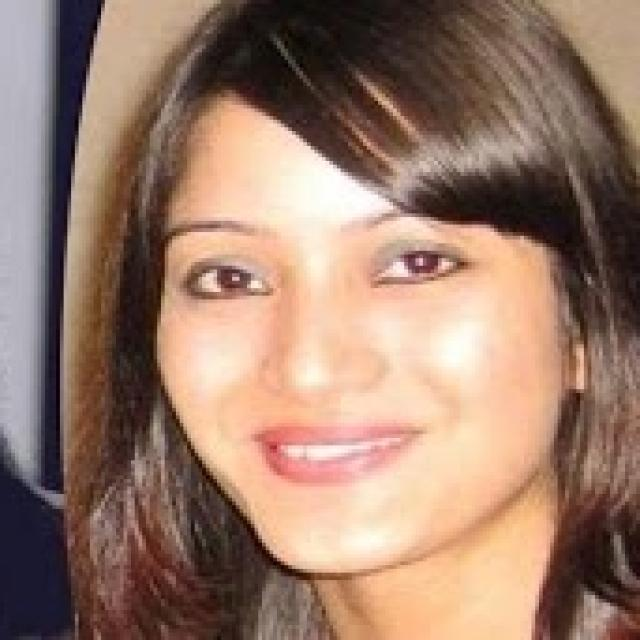Normal: (145, 86, 562, 579)
